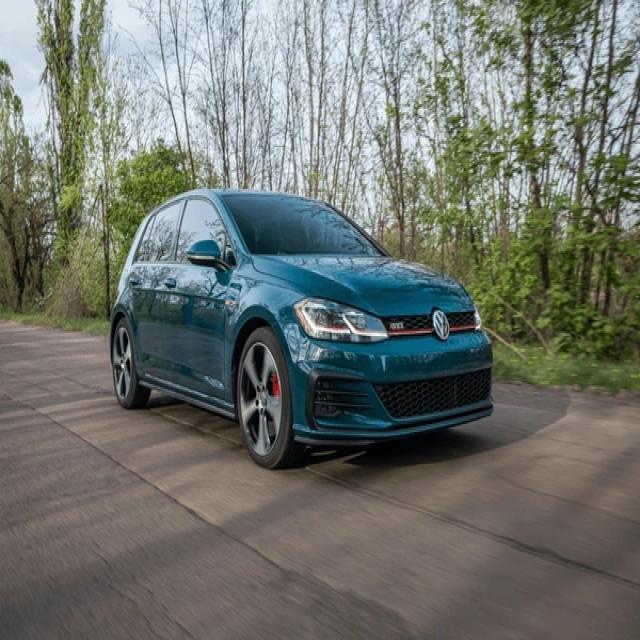wolksvogen: (431, 307, 446, 341)
